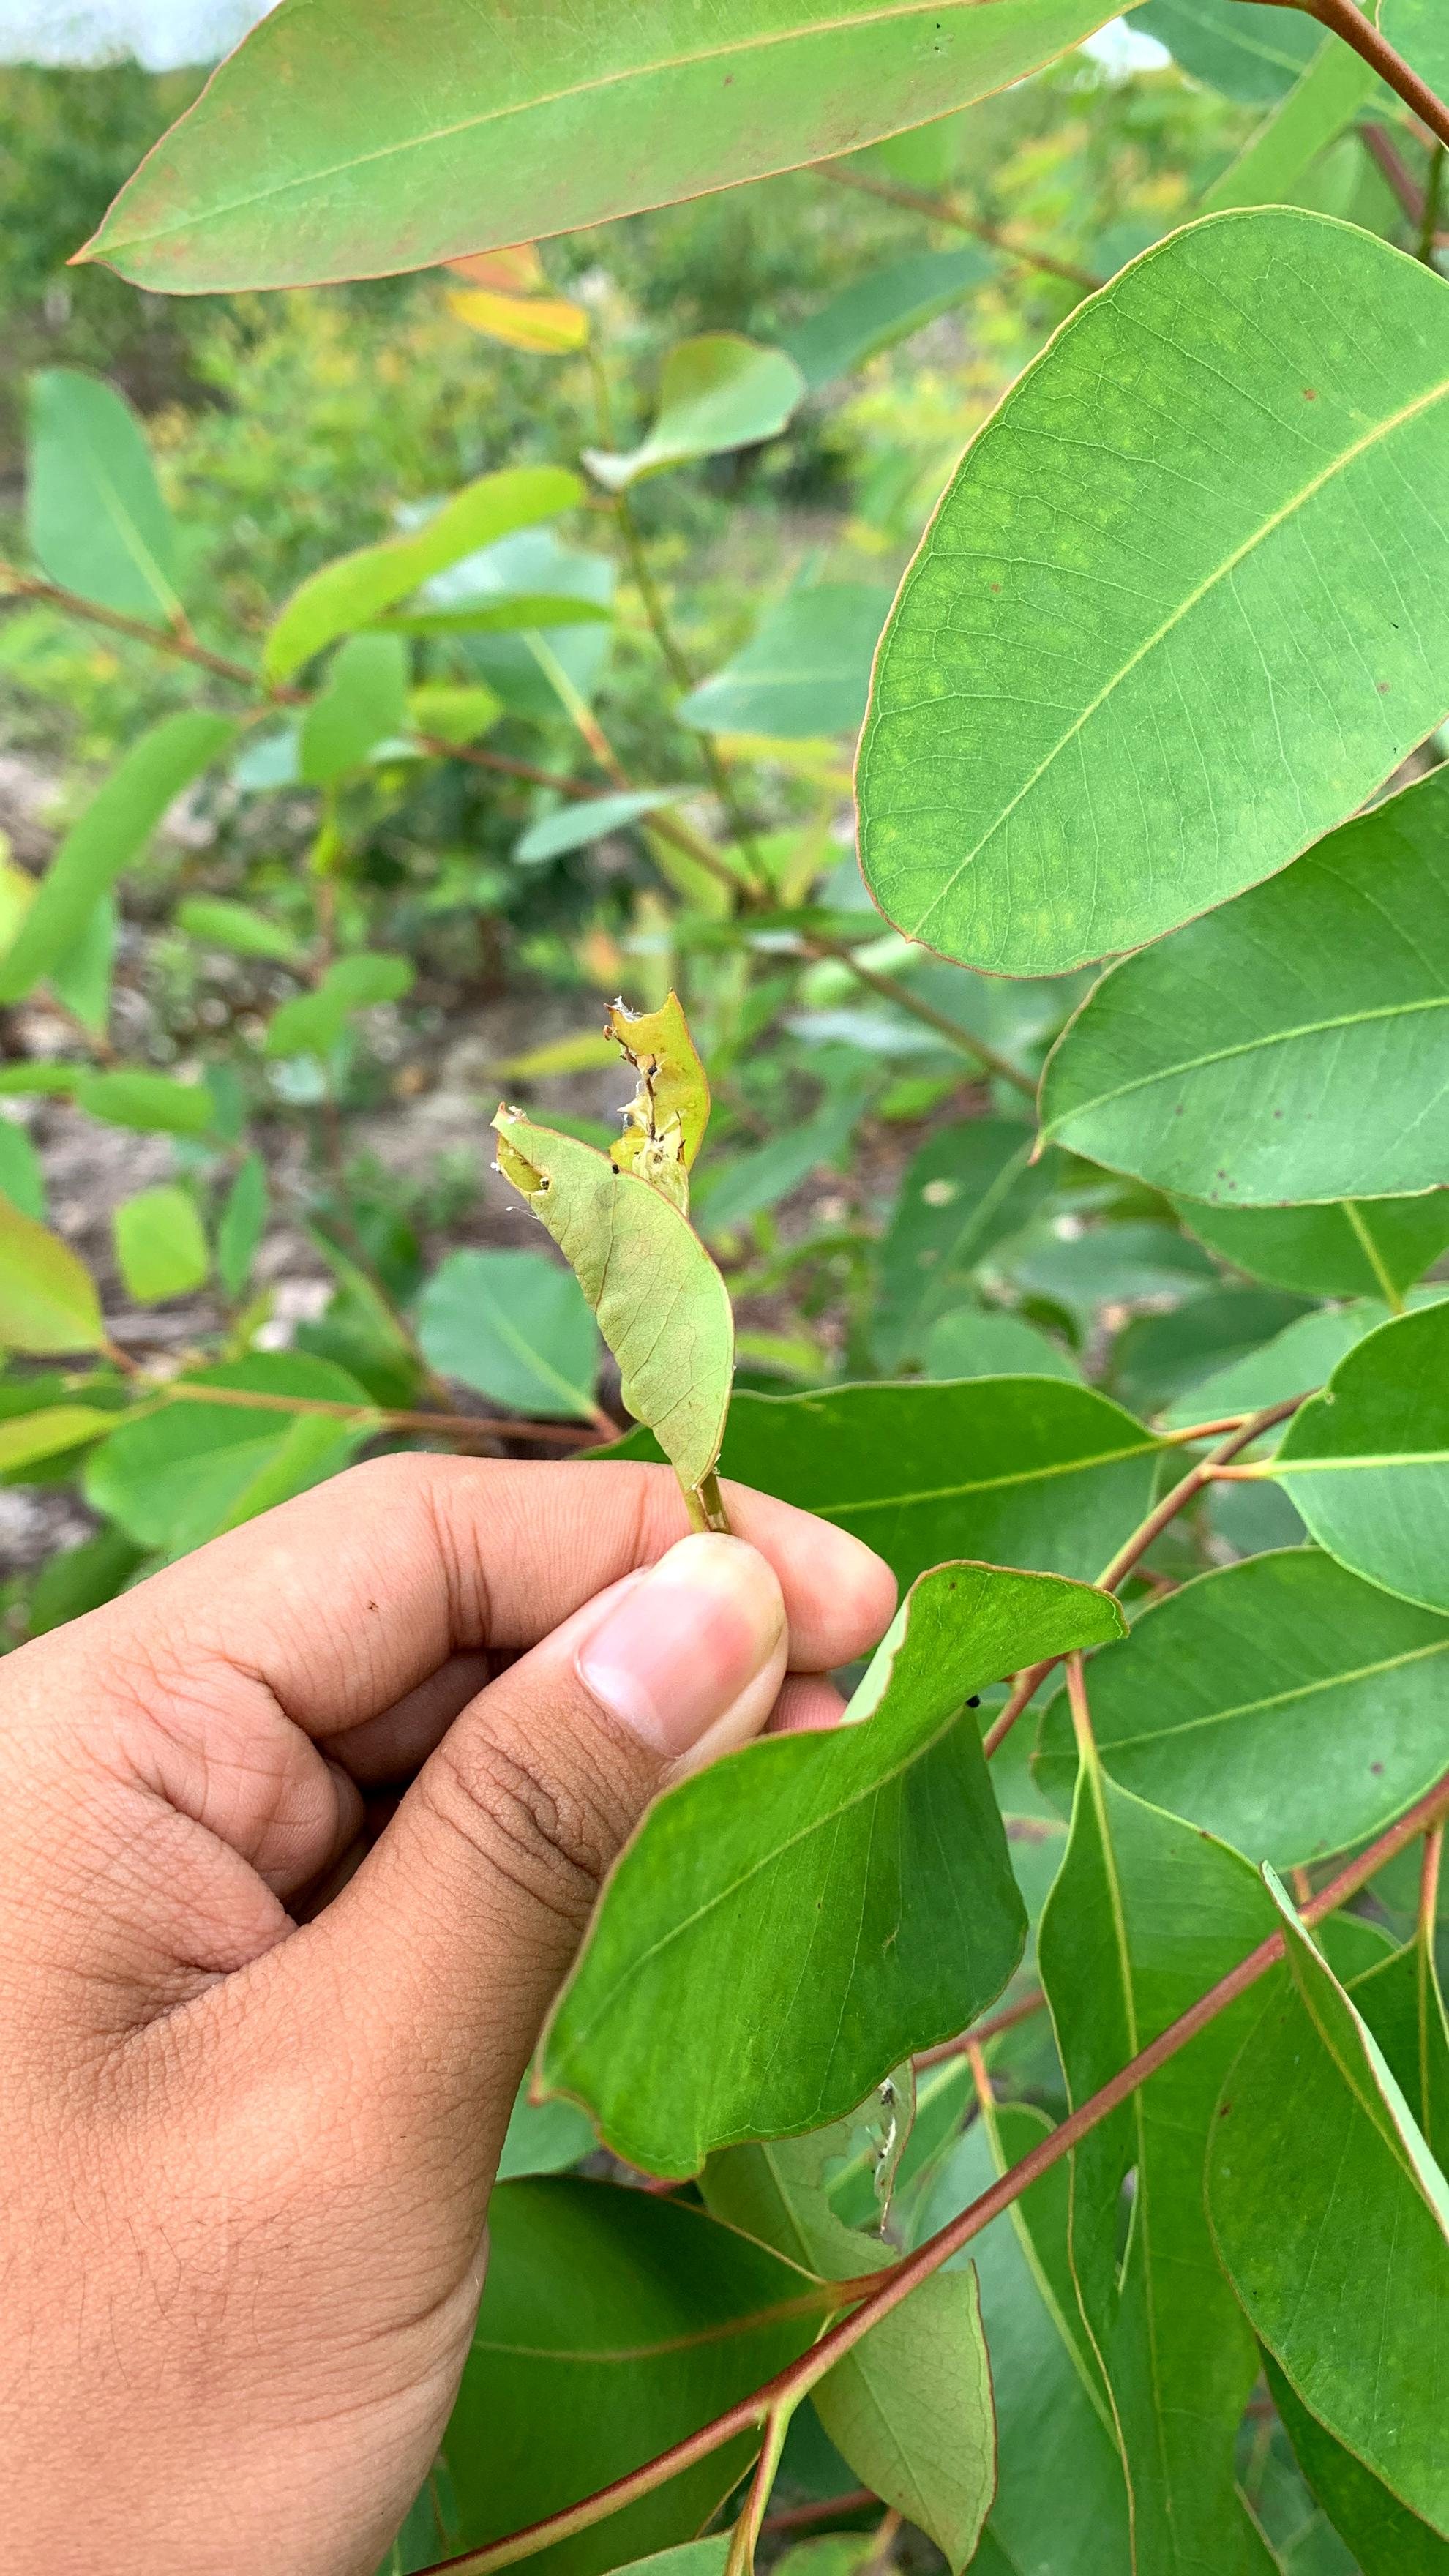Leaf Roller - Leaf: (448, 872, 800, 1541)
